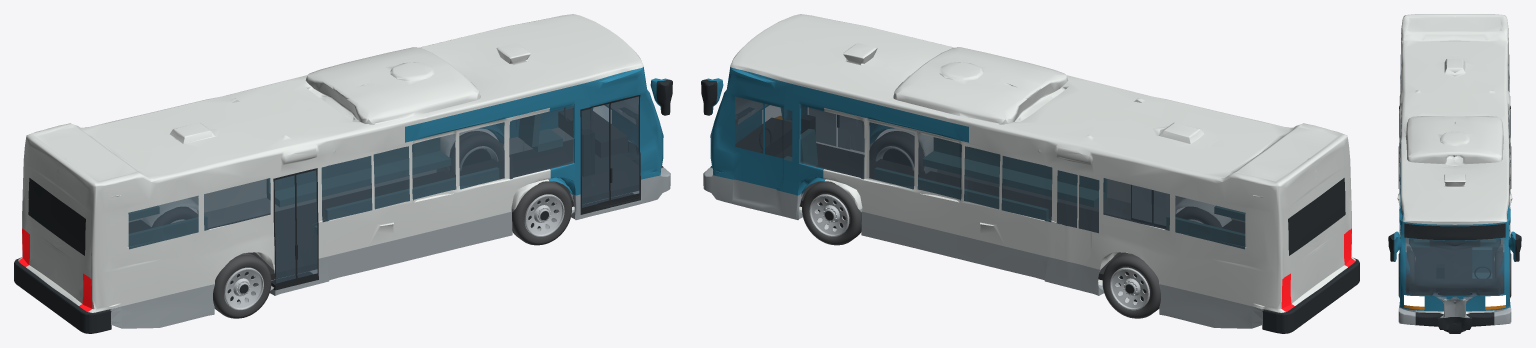
The picture shows the model from 3 angles, left to right: view 1: azimuth 30°, elevation 25°; view 2: azimuth 150°, elevation 25°; view 3: azimuth 270°, elevation 25°; orthographic projection. The views are drawn at different scales.
Parts seen in each view (by area): view 1: roof_panel, body_shell, lower_trim_right, interior_floor, roof_hvac, front_blue_panels, front_blue_shoulder, glass_right_0, wheel_rear_right, wheel_front_right, engine_hatch, glass_door_front_right_forward (+27 smaller); view 2: roof_panel, body_shell, lower_trim_left, roof_hvac, front_blue_panels, front_blue_shoulder, interior_floor, glass_left_0, door_front_left, door_rear_left, wheel_rear_left, wheel_front_left (+27 smaller); view 3: roof_panel, windshield, roof_hvac, interior_floor, front_blue_panels, front_destination_housing, front_bumper, interior_dashboard, body_shell, roof_front_hatch, front_blue_shoulder, front_rack (+12 smaller).
Part boxes in pixels (x1,y1,x2,y2): roof_panel: (24, 14, 643, 200); body_shell: (18, 95, 638, 312); lower_trim_right: (110, 167, 670, 328); interior_floor: (208, 139, 638, 284); roof_hvac: (231, 49, 466, 137); front_blue_panels: (480, 84, 663, 195); front_blue_shoulder: (405, 67, 671, 142); glass_right_0: (509, 105, 573, 179); wheel_rear_right: (213, 253, 271, 318); wheel_front_right: (512, 181, 571, 245); engine_hatch: (26, 217, 82, 305); glass_door_front_right_forward: (610, 96, 639, 199); roof_panel: (730, 14, 1349, 200); body_shell: (799, 95, 1355, 312); lower_trim_left: (703, 167, 1263, 328); roof_hvac: (907, 49, 1142, 137); front_blue_panels: (710, 84, 893, 195); front_blue_shoulder: (702, 67, 968, 142); interior_floor: (776, 143, 1165, 284); glass_left_0: (800, 105, 864, 179); door_front_left: (733, 95, 793, 214); door_rear_left: (1055, 168, 1100, 290); wheel_rear_left: (1102, 253, 1160, 318); wheel_front_left: (802, 181, 861, 245); roof_panel: (1400, 14, 1509, 224); windshield: (1405, 238, 1504, 300); roof_hvac: (1406, 90, 1503, 152); interior_floor: (1409, 239, 1500, 294); front_blue_panels: (1394, 232, 1515, 311); front_destination_housing: (1404, 223, 1505, 240); front_bumper: (1415, 312, 1494, 333); interior_dashboard: (1436, 279, 1498, 295); body_shell: (1397, 38, 1512, 314); roof_front_hatch: (1426, 157, 1483, 197); front_blue_shoulder: (1394, 162, 1515, 241); front_rack: (1438, 297, 1471, 317).
Size of the model in its own units: 12.22 by 3.36 by 3.22.
